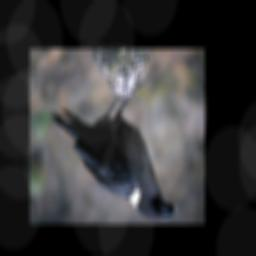Crow: (48, 79, 177, 221)
